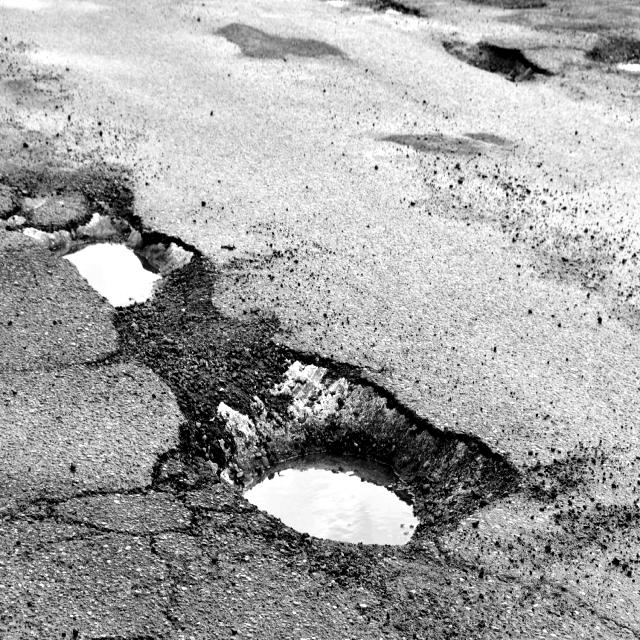pathole: (0, 142, 532, 562), (425, 28, 585, 139), (574, 11, 640, 116), (323, 0, 425, 45)
